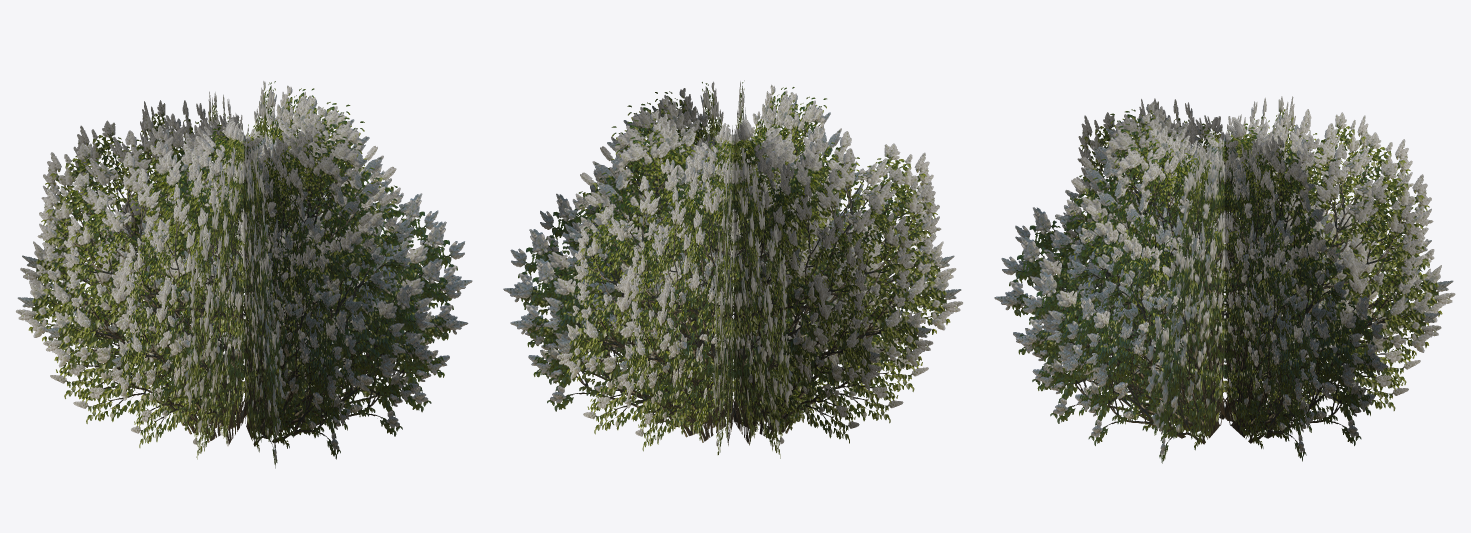
File: bush1.fbx
3 renders of one model, left to right at view 1: azimuth 30°, elevation 25°; view 2: azimuth 150°, elevation 25°; view 3: azimuth 270°, elevation 25°, orthographic.
Parts seen in each view (by area): view 1: bush1.001; view 2: bush1.001; view 3: bush1.001.
Boxes of the visible parts, x1=… form: bush1.001: x1=16, y1=81, x2=472, y2=468; bush1.001: x1=503, y1=80, x2=962, y2=458; bush1.001: x1=994, y1=96, x2=1455, y2=463.
Size of the model in its own units: 58.23 by 42.83 by 58.23.
1 material, 1 textured.
